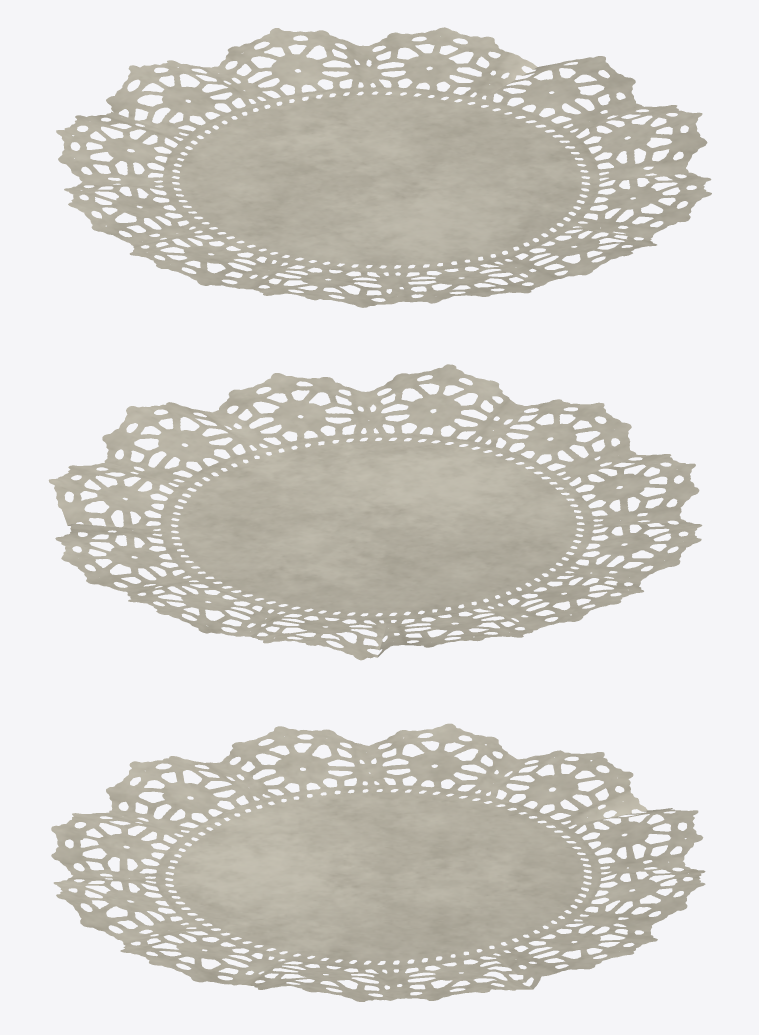
File: doily.lod1.glb
3 renders of one model, top to bottom at view 1: azimuth 30°, elevation 25°; view 2: azimuth 150°, elevation 25°; view 3: azimuth 270°, elevation 25°, orthographic.
Visible parts, largest first — view 1: doily.001; view 2: doily.001; view 3: doily.001.
Boxes of the visible parts, left/top/right/bottom form: doily.001: left=56, top=27, right=711, bottom=307; doily.001: left=48, top=364, right=702, bottom=660; doily.001: left=51, top=723, right=705, bottom=1001.
Bounding box in the file's own units: 0.3151 × 0.0133 × 0.315.
Materials: 1 (1 with a texture image).
